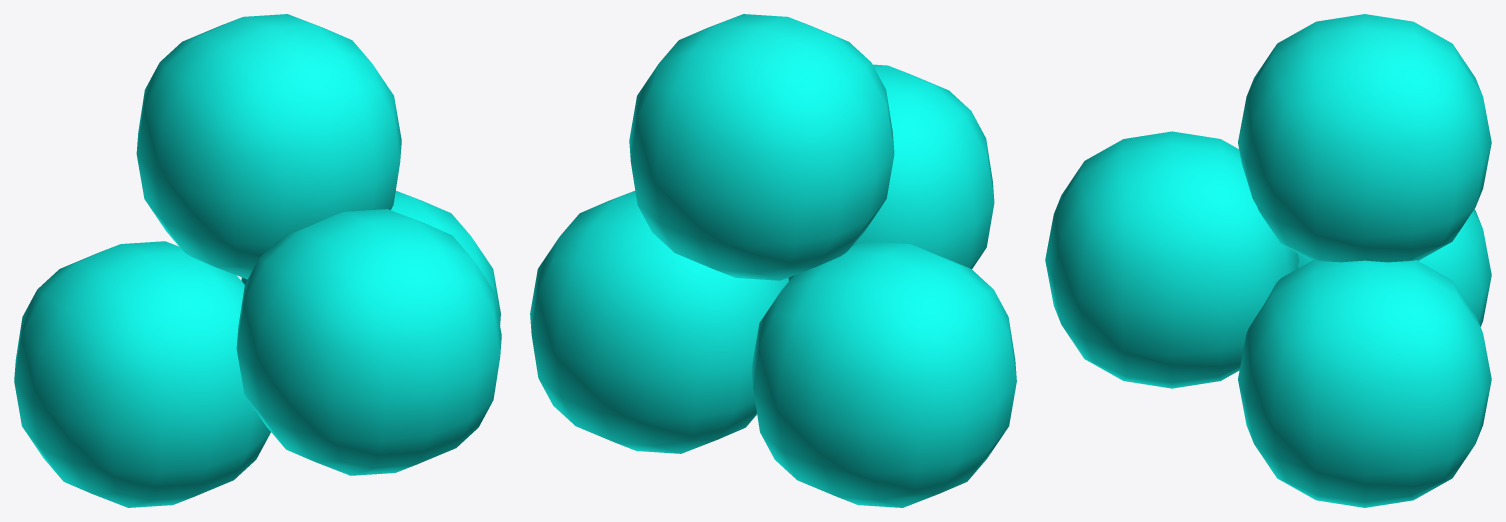
Rendered from SM_FrontShrapnel.fbx.
The picture shows the model from 3 angles, left to right: view 1: azimuth 30°, elevation 25°; view 2: azimuth 150°, elevation 25°; view 3: azimuth 270°, elevation 25°; orthographic projection. The views are drawn at different scales.
Parts seen in each view (by area): view 1: FrontShrapnel; view 2: FrontShrapnel; view 3: FrontShrapnel.
Part boxes in pixels (left/top/right/bottom): FrontShrapnel: left=14, top=14, right=501, bottom=507; FrontShrapnel: left=530, top=14, right=1016, bottom=507; FrontShrapnel: left=1045, top=14, right=1491, bottom=507.
Bounding box in the file's own units: 1.39 × 1.29 × 1.24.
1 material, 1 textured.
